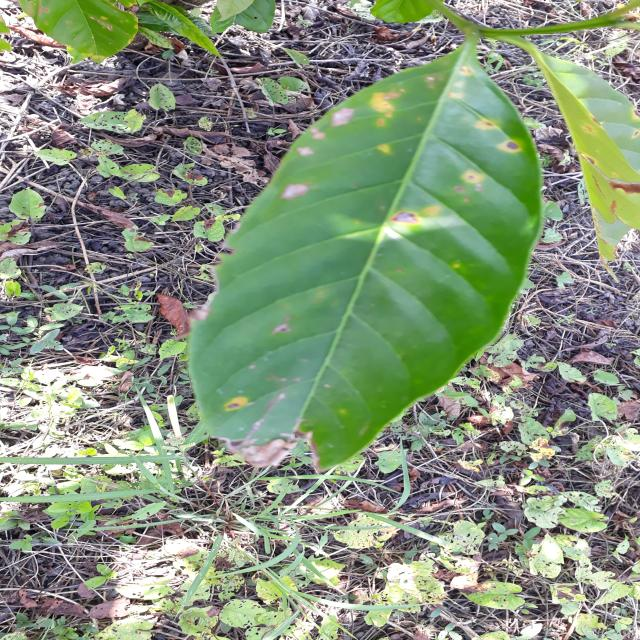Enfermedad-Roya: (186, 39, 545, 471)
